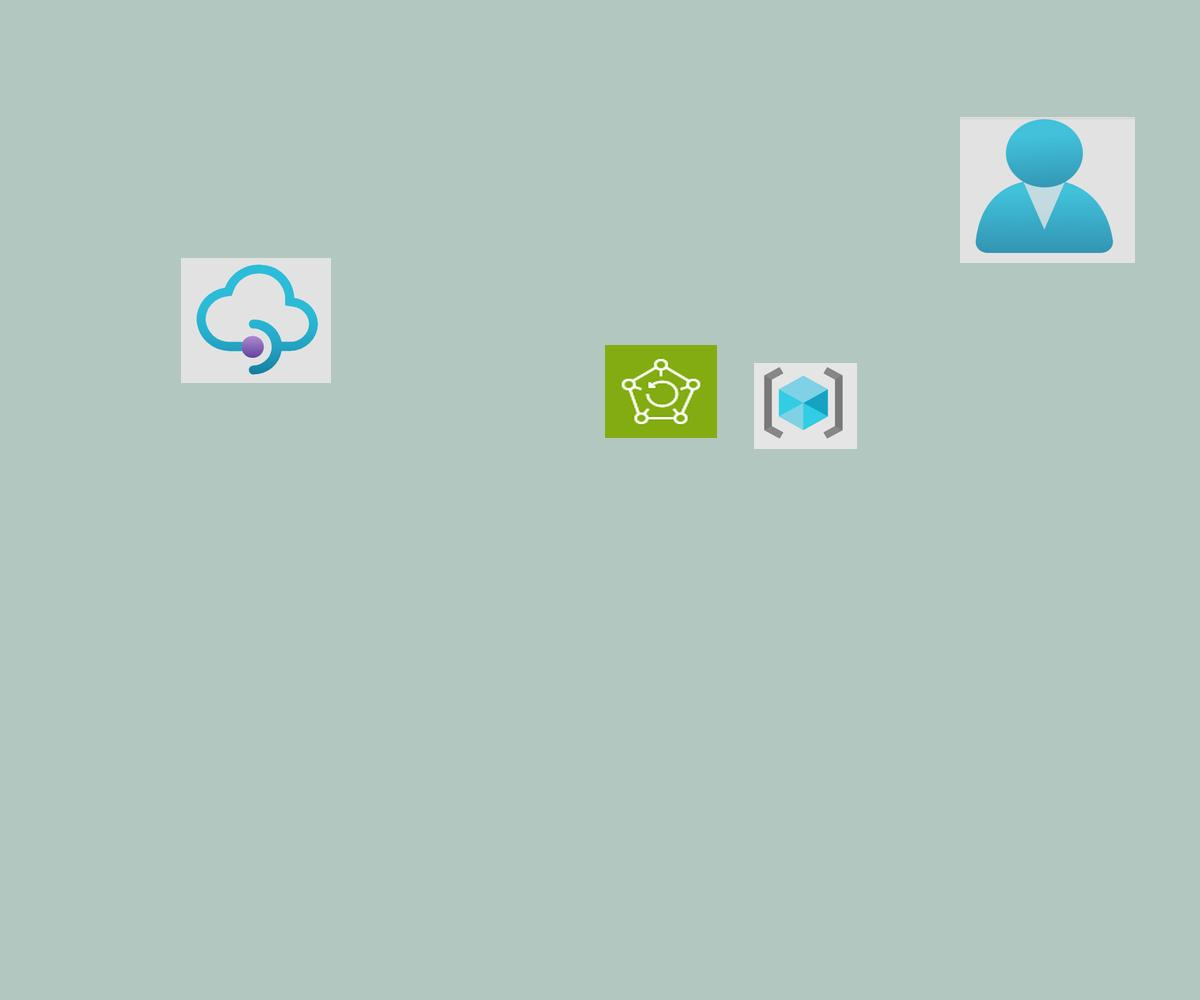AWS-Backup: (605, 345, 717, 438)
Azure_api_gateway: (181, 258, 331, 383)
Azure_resource_group: (754, 363, 857, 449)
Azure_users: (960, 117, 1135, 263)
